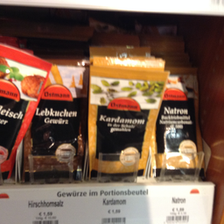spices: (88, 55, 168, 178), (27, 63, 84, 177), (157, 65, 203, 173)
